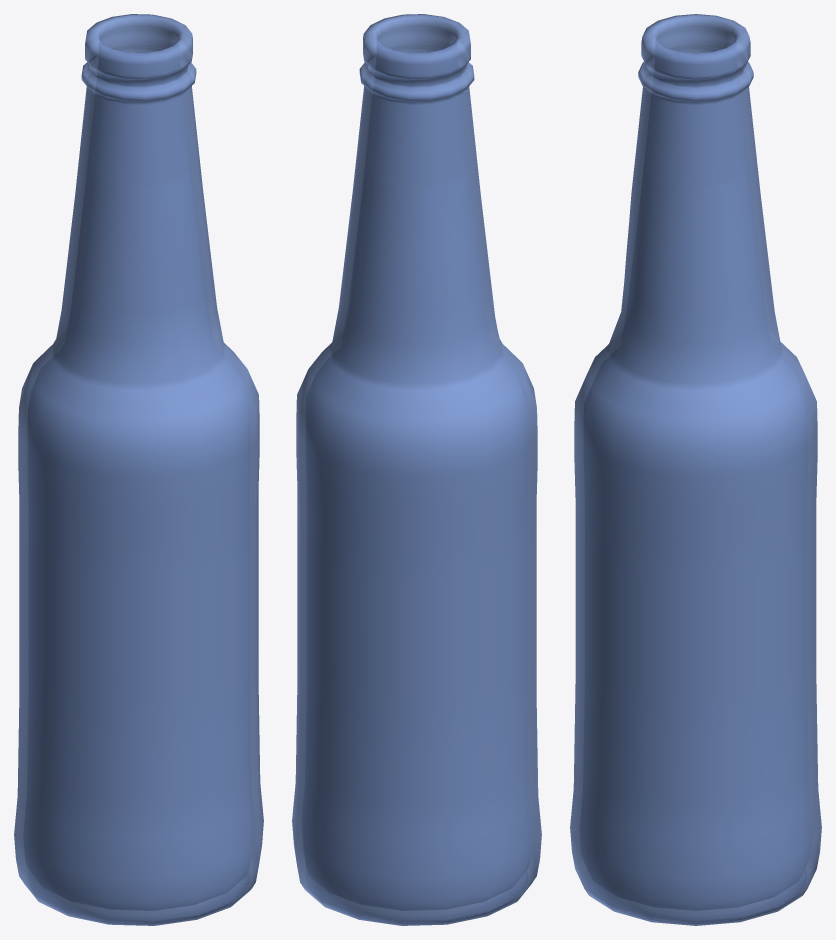
File: bottle1.fbx
The picture shows the model from 3 angles, left to right: view 1: azimuth 30°, elevation 25°; view 2: azimuth 150°, elevation 25°; view 3: azimuth 270°, elevation 25°; orthographic projection.
Visible parts, largest first — view 1: Bottle; view 2: Bottle; view 3: Bottle.
Boxes of the visible parts, x1,y1,x2,y2 form: Bottle: [14, 14, 263, 925]; Bottle: [292, 14, 541, 925]; Bottle: [570, 14, 821, 925].
Size of the model in its own units: 12.73 by 47.28 by 12.73.
